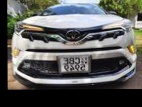car: (11, 2, 136, 88)
